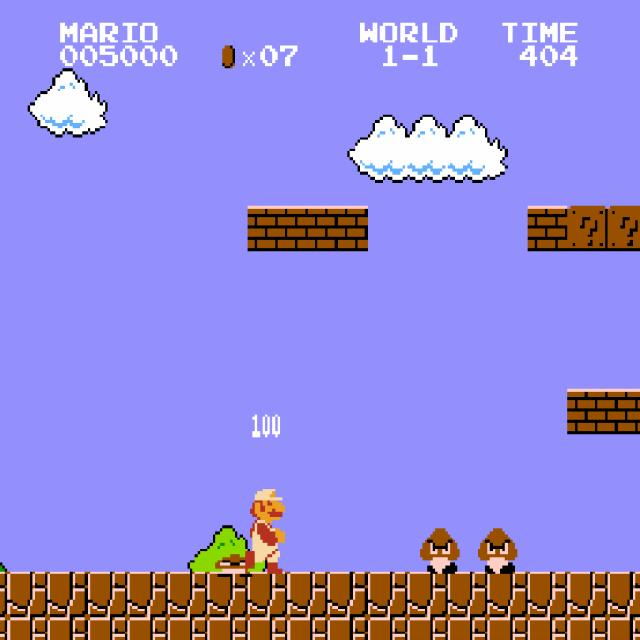brick_block: (247, 206, 288, 251), (287, 206, 328, 251), (327, 206, 368, 251), (527, 206, 568, 251), (567, 389, 608, 434), (607, 388, 640, 434)
fire_mario: (243, 480, 285, 574)
goomba: (417, 526, 460, 574), (475, 526, 518, 574)
mystery_block: (567, 206, 608, 251), (607, 205, 640, 251)
undestructible_block: (7, 572, 48, 617), (47, 572, 88, 617), (87, 572, 128, 617), (127, 572, 168, 617), (167, 572, 208, 617), (207, 572, 248, 617), (247, 572, 288, 617), (287, 572, 328, 617), (327, 572, 368, 617), (367, 572, 408, 617), (407, 572, 448, 617), (447, 572, 488, 617), (487, 572, 528, 617), (527, 572, 568, 617), (567, 572, 608, 617), (607, 571, 640, 617), (7, 617, 48, 640), (47, 617, 88, 640), (87, 617, 128, 640), (127, 617, 168, 640), (167, 617, 208, 640), (207, 617, 248, 640), (247, 617, 288, 640), (287, 617, 328, 640), (327, 617, 368, 640), (367, 617, 408, 640), (407, 617, 448, 640), (447, 617, 488, 640), (487, 617, 528, 640), (527, 617, 568, 640), (567, 617, 608, 640), (607, 617, 640, 639), (0, 572, 7, 617), (0, 617, 7, 640)
